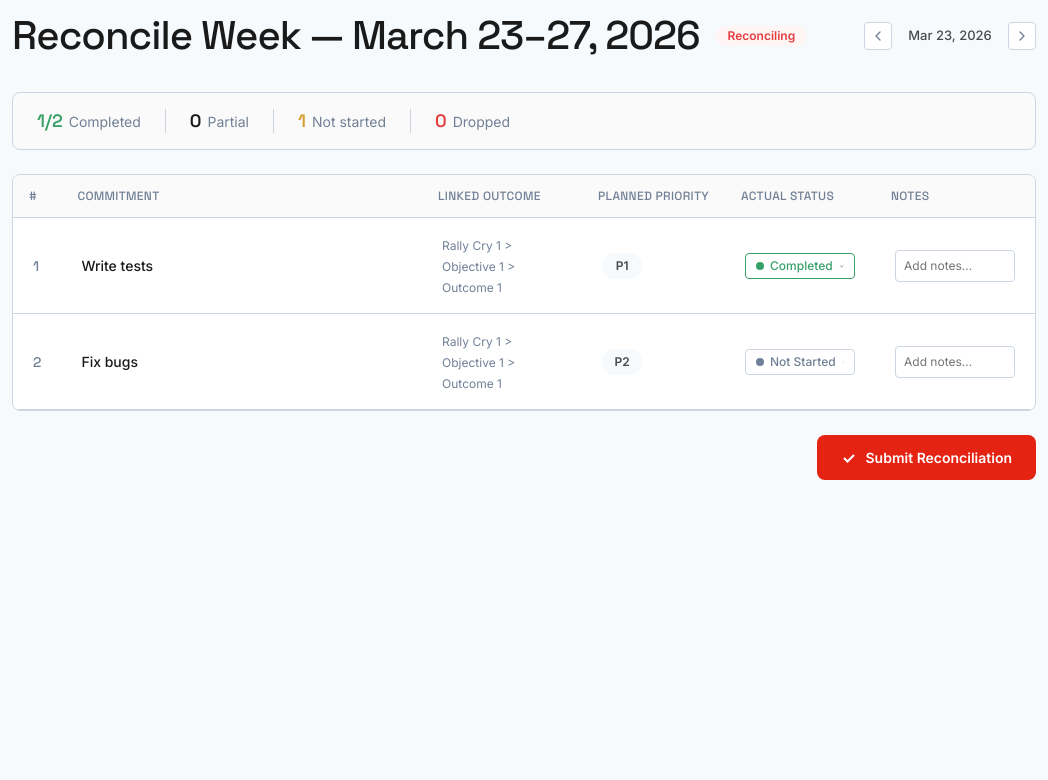
ReconciliationPage › shows conflict message when submit returns HTTP 409
Click the button with test id "submit-reconciliation" at (927, 458), box x1=818 y1=435 x2=1036 y2=480
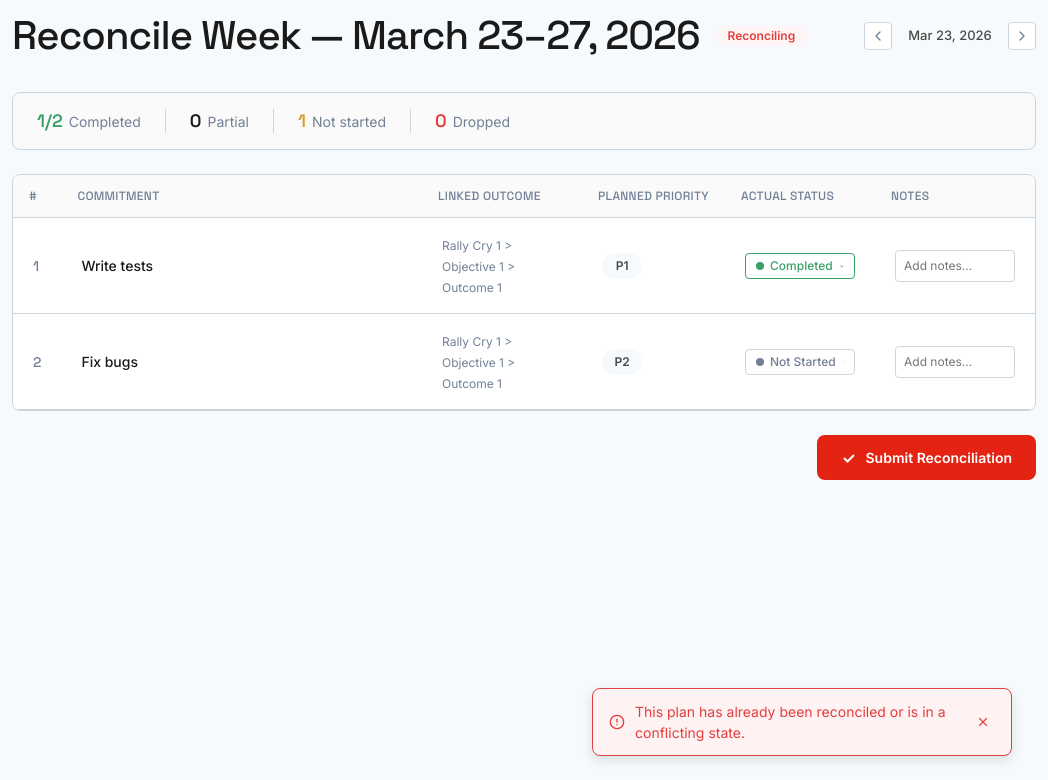
Result: the text "This plan has already been reconciled or is in a conflicting state." is shown at x1=635 y1=701 x2=961 y2=743
